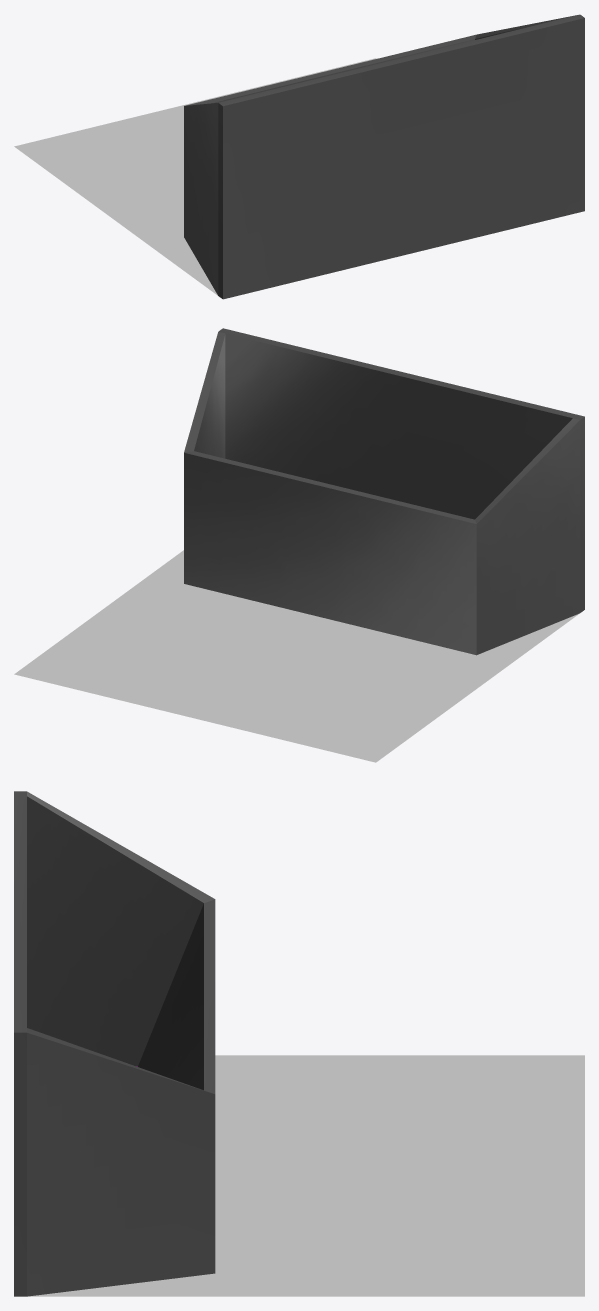
The model's file is conveyor_attachables.obj.
3 views of the same model, one above another, from view 1: azimuth 30°, elevation 25°; view 2: azimuth 150°, elevation 25°; view 3: azimuth 270°, elevation 25° (orthographic). The views are drawn at different scales.
Visible parts, largest first — view 1: BagTrash_btmdl, Reference_rplane; view 2: BagTrash_btmdl, Reference_rplane; view 3: Reference_rplane, BagTrash_btmdl.
Part boxes in pixels (left/top/right/bottom): BagTrash_btmdl: left=184, top=14, right=584, bottom=299; Reference_rplane: left=14, top=58, right=376, bottom=295; BagTrash_btmdl: left=184, top=328, right=584, bottom=655; Reference_rplane: left=14, top=550, right=579, bottom=762; Reference_rplane: left=28, top=1055, right=584, bottom=1296; BagTrash_btmdl: left=14, top=791, right=215, bottom=1296.
Bounding box in the file's own units: 1 × 0.51 × 1.
